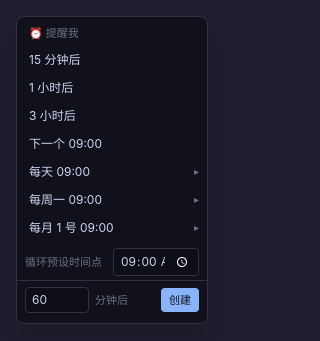
Scenario: ReminderMenu 预设项 › 改时间点为 20:30：四个定点项标签同步跟随
The width and height of the screenshot is (320, 341).
Replace the text in the time field labelled "循环预设时间点" with "20:30" at (156, 262), box [113,248,199,276]
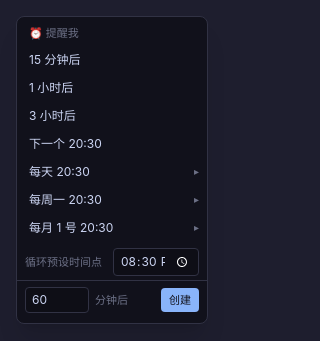
Result: the button "每天 20:30" is shown at [17,158,186,186]
Result: the button "每周一 20:30" is shown at [17,186,186,214]
Result: the button "下一个 20:30" is shown at [17,130,207,158]
